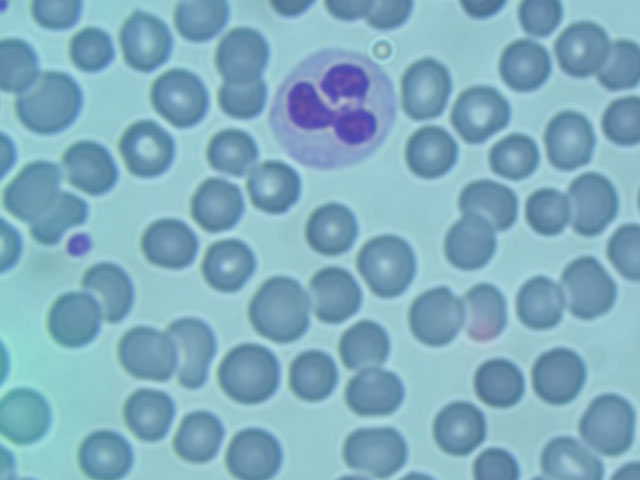Platelets: (65, 231, 95, 257)
RBC: (46, 292, 108, 351), (86, 259, 146, 315), (360, 237, 419, 293), (307, 266, 366, 322), (250, 278, 309, 334), (219, 343, 278, 399), (287, 347, 346, 403), (336, 313, 395, 369), (345, 363, 404, 419), (346, 418, 405, 474), (428, 397, 487, 453), (470, 352, 529, 408), (577, 397, 636, 453), (531, 348, 590, 404), (513, 186, 572, 242), (439, 215, 498, 271), (460, 172, 519, 228), (403, 123, 462, 179), (398, 59, 457, 115), (450, 85, 509, 141), (540, 113, 599, 169), (495, 39, 554, 95), (554, 21, 613, 77), (567, 176, 626, 232), (562, 261, 621, 317), (511, 275, 570, 331), (457, 284, 516, 340), (406, 289, 465, 345), (171, 319, 230, 375), (303, 202, 362, 258), (142, 213, 201, 269), (191, 178, 250, 234), (247, 159, 306, 215), (198, 239, 257, 295), (151, 68, 210, 124), (214, 24, 273, 80), (117, 15, 176, 71), (63, 24, 122, 80), (26, 74, 85, 130), (119, 119, 178, 175), (63, 137, 122, 193), (79, 424, 138, 480), (119, 385, 178, 441), (118, 323, 177, 379), (167, 409, 226, 465), (226, 424, 285, 480), (207, 126, 266, 182), (213, 70, 272, 126), (1, 165, 59, 221), (1, 385, 59, 441)
WBC: (271, 46, 395, 169)
